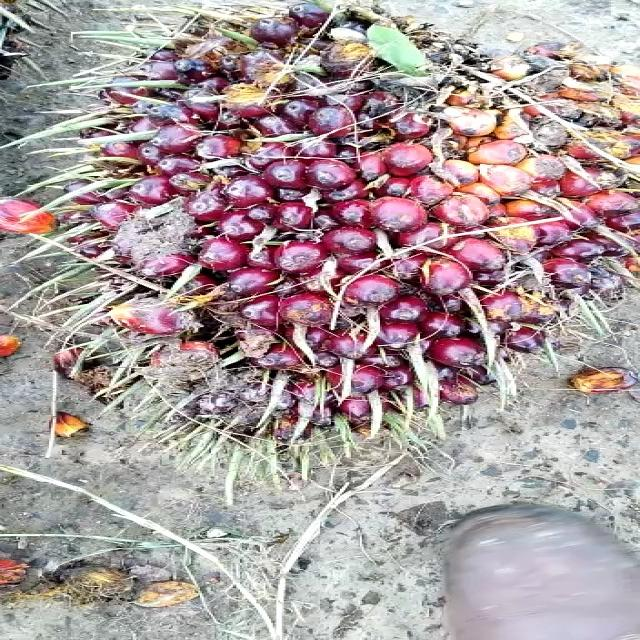palm oil: (36, 0, 638, 451)
